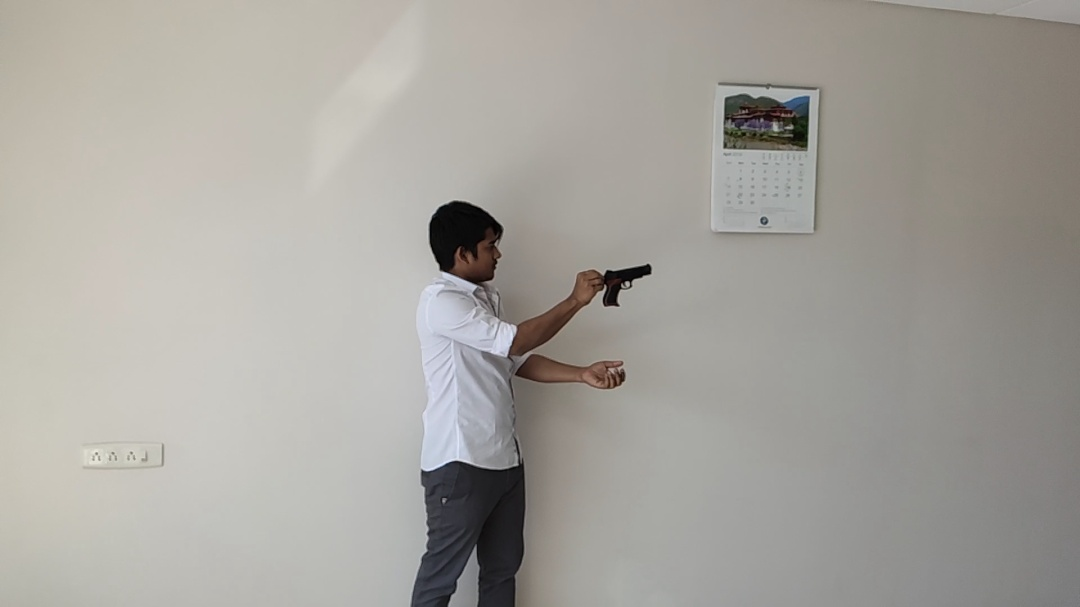gun: (602, 263, 653, 308)
